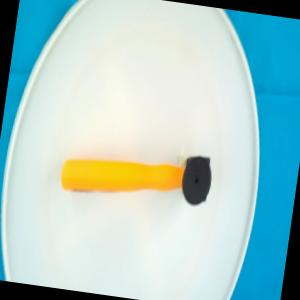martelo: (58, 136, 216, 213)
